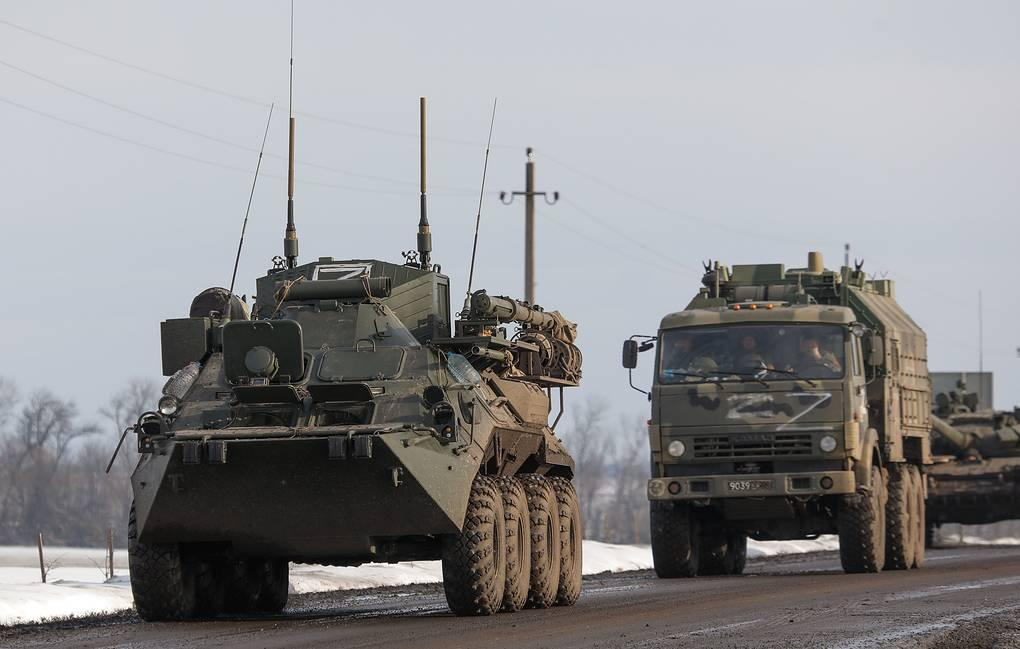tank: (138, 272, 575, 618), (931, 397, 1018, 535)
truck: (636, 266, 931, 574)
